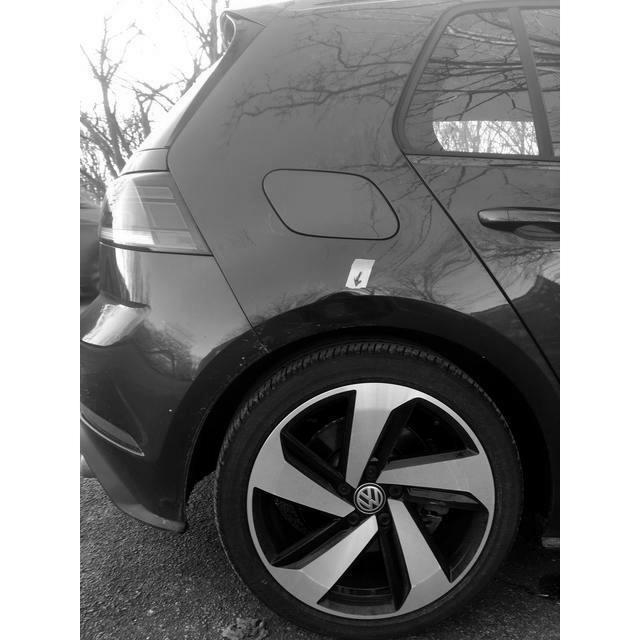quaterpanel-dent: (180, 133, 473, 420)
